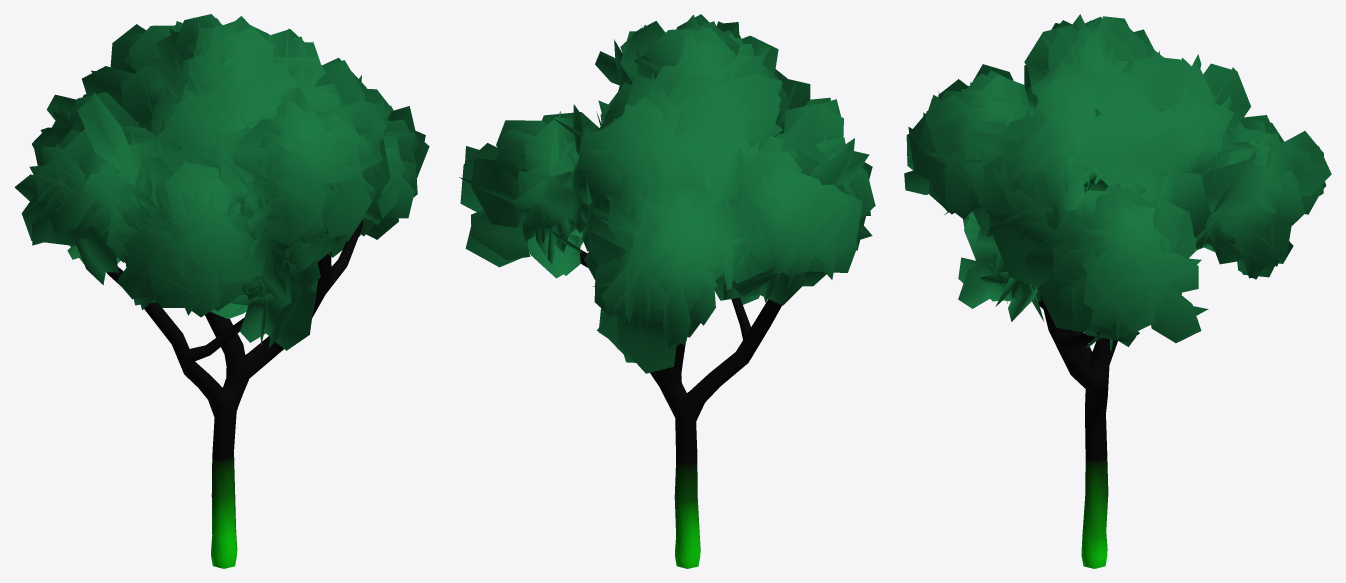
The model's file is SM_BirchTreeB3.fbx.
3 views of the same model, side by side, from view 1: azimuth 30°, elevation 25°; view 2: azimuth 150°, elevation 25°; view 3: azimuth 270°, elevation 25° (orthographic). The views are drawn at different scales.
Parts seen in each view (by area): view 1: SM_BirchTreeB3_LOD0; view 2: SM_BirchTreeB3_LOD0; view 3: SM_BirchTreeB3_LOD0.
Part boxes in pixels (x1,y1,x2,y2): SM_BirchTreeB3_LOD0: (14, 14, 429, 568); SM_BirchTreeB3_LOD0: (459, 14, 875, 568); SM_BirchTreeB3_LOD0: (904, 14, 1331, 568).
Size of what is drawn, in the model's own units: 1855 by 2428 by 1732.
